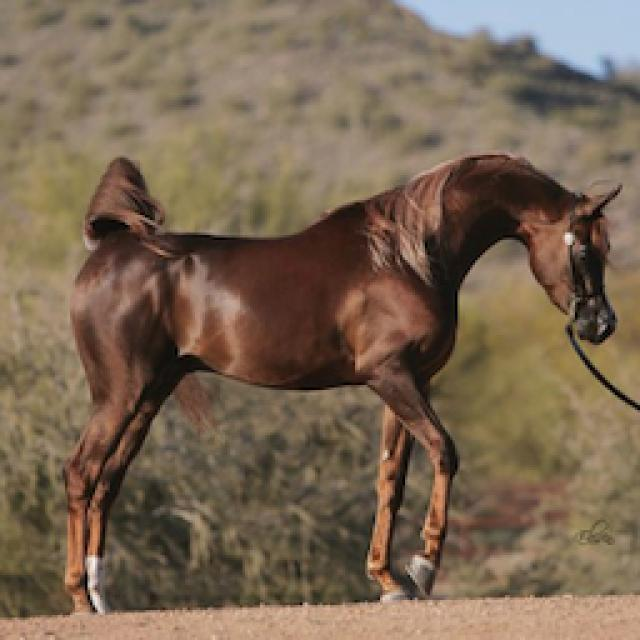Horse: (50, 142, 628, 618)
